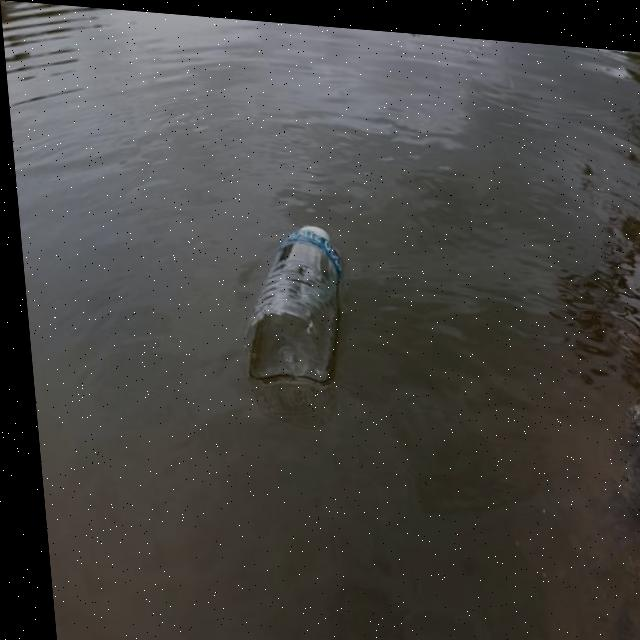waterbottle: (232, 196, 366, 415)
